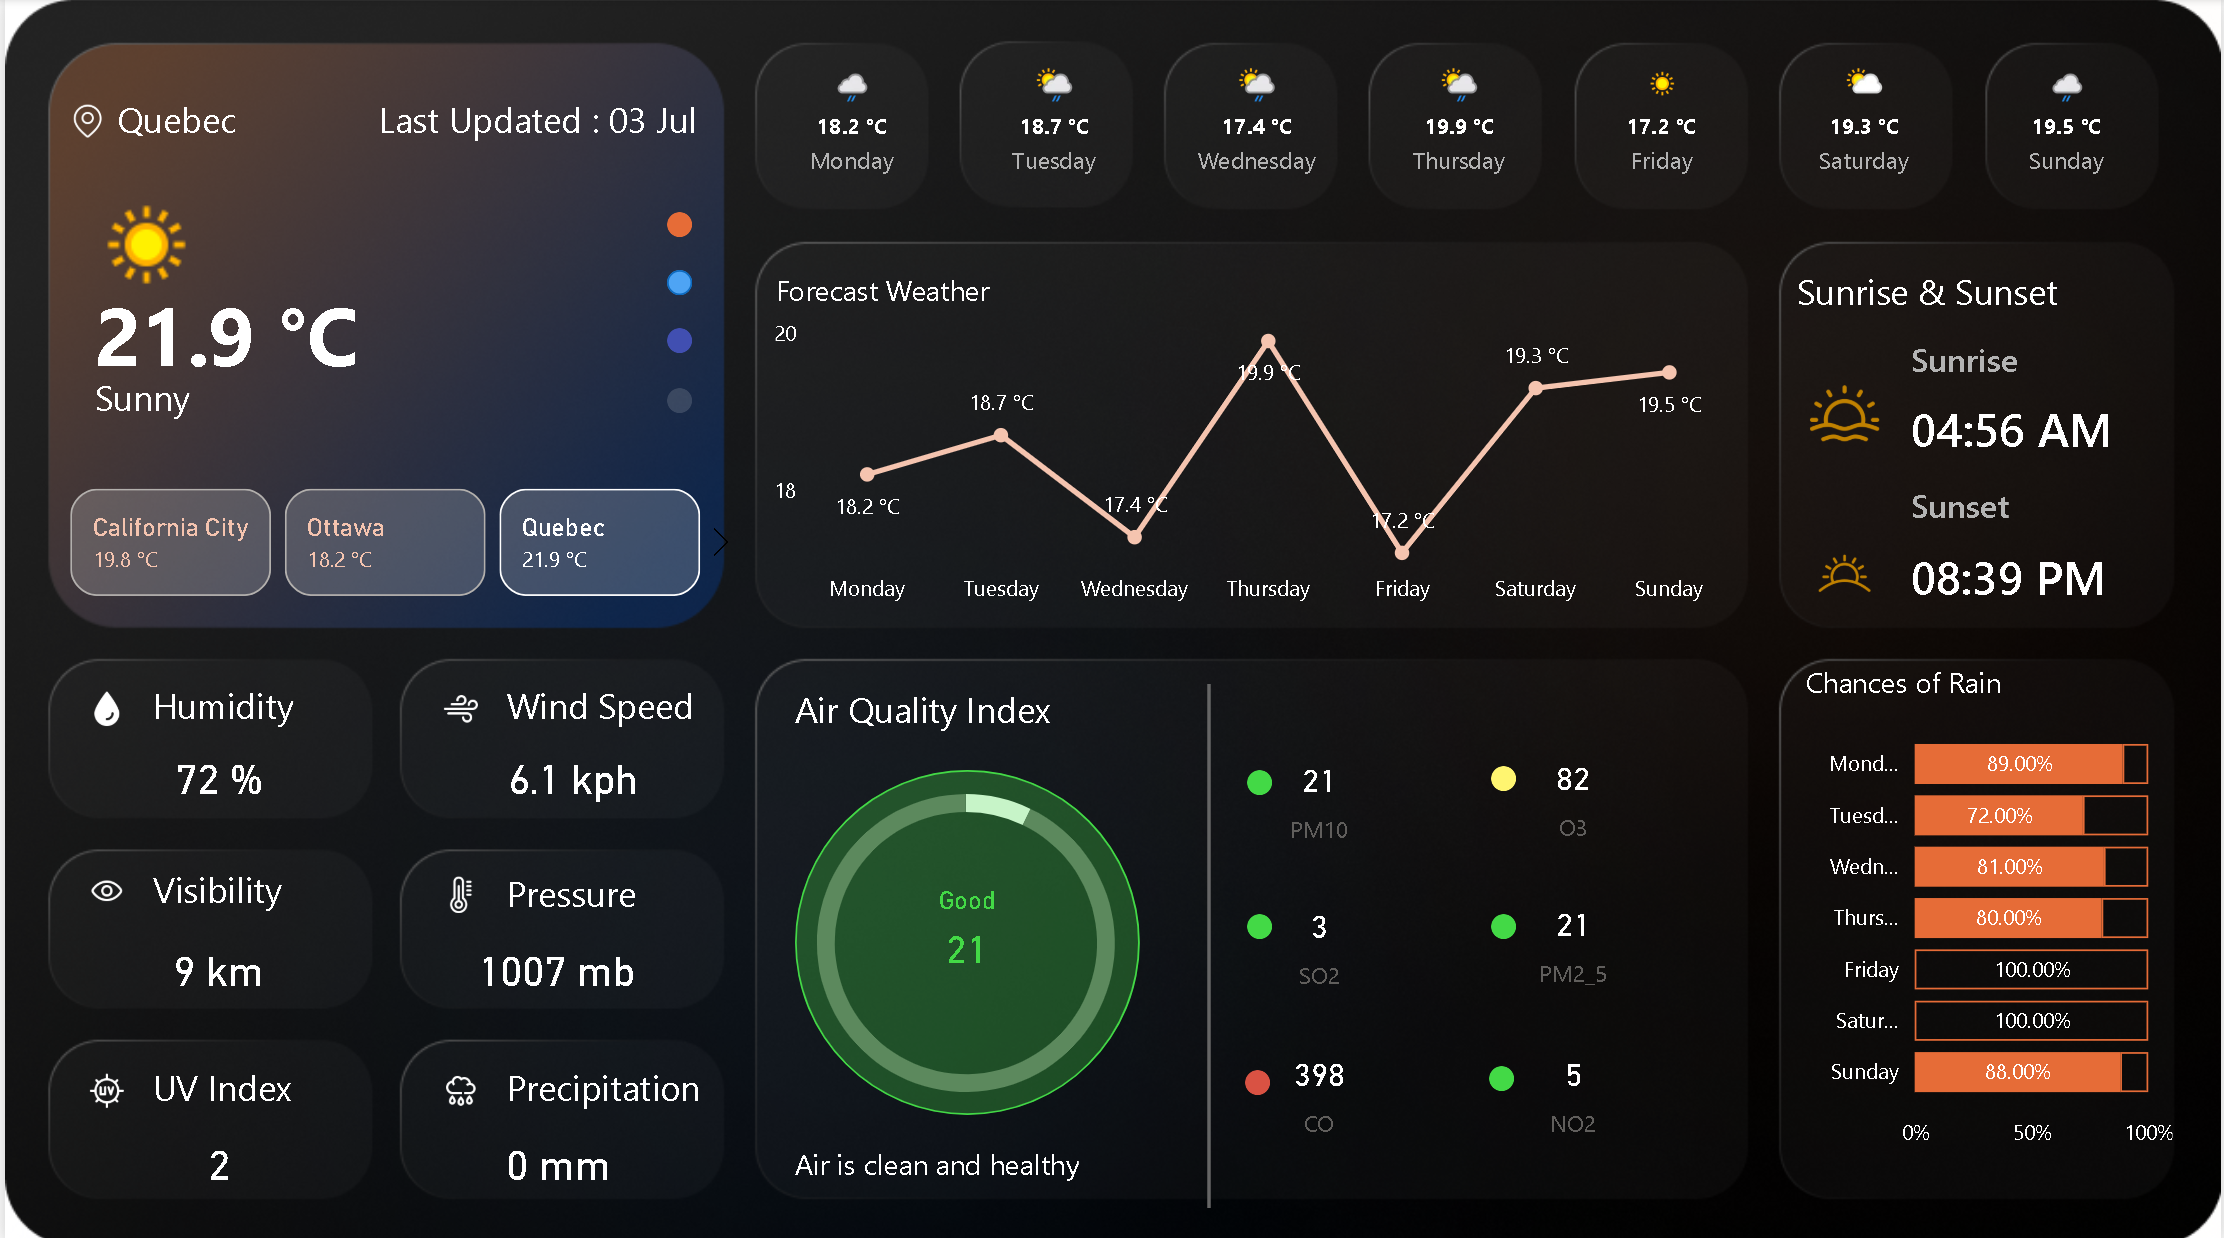

Layout of this report page (visuals, bound fields, positions):
{"tool":"powerbi","page":{"name":"Weather ","canvas":[1280,720],"ordinal":0},"visuals":[{"type":"donutChart","fields":{"Y":["Sum(Current.current.air_quality.pm10)","All_Measures.Left_value_PM10v"]},"box":[442.3,431,225.2,230.1],"z":0},{"type":"shape","box":[456.9,445.6,199.3,199.3],"z":1000},{"type":"advancedSlicerVisual","fields":{"Values":["Location.location.name"]},"box":[13,278.7,416.4,72.9],"z":2000},{"type":"shape","box":[51.8,157.2,178.2,72.9],"z":3000},{"type":"shape","box":[51.8,205.8,294.9,50.2],"z":4000},{"type":"shape","box":[64.8,45.4,147.4,50.2],"z":5000},{"type":"shape","box":[178.2,45.4,222,50.2],"z":6000},{"type":"image","box":[24.3,56.7,47,29.2],"z":7000},{"type":"cardVisual","fields":{"Data":["Min(Current.current.condition.icon)"]},"box":[21.1,85.9,102.1,85.9],"z":8000},{"type":"image","box":[32.4,500.7,53.5,30.8],"z":9000},{"type":"shape","box":[85.9,494.2,92.4,40.5],"z":10000},{"type":"shape","box":[85.9,388.9,92.4,40.5],"z":11000},{"type":"shape","box":[290,388.9,110.2,40.5],"z":12000},{"type":"shape","box":[290,497.4,92.4,40.5],"z":13000},{"type":"shape","box":[85.9,609.2,92.4,40.5],"z":14000},{"type":"shape","box":[290,609.2,123.1,40.5],"z":15000},{"type":"image","box":[32.4,395.3,53.5,30.8],"z":16000},{"type":"image","box":[236.6,395.3,53.5,30.8],"z":17000},{"type":"image","box":[236.6,502.3,53.5,30.8],"z":18000},{"type":"image","box":[32.4,615.7,53.5,30.8],"z":19000},{"type":"image","box":[236.6,615.7,53.5,30.8],"z":20000},{"type":"card","fields":{"Values":["All_Measures.Humidity_Curr"]},"box":[69.7,426.1,108.6,48.6],"z":21000},{"type":"card","fields":{"Values":["Current.Windspeed"]},"box":[273.8,426.1,108.6,48.6],"z":22000},{"type":"card","fields":{"Values":["All_Measures.Visibility"]},"box":[69.7,537.9,108.6,48.6],"z":23000},{"type":"card","fields":{"Values":["All_Measures.pressure_curr"]},"box":[264.1,537.9,108.6,48.6],"z":24000},{"type":"card","fields":{"Values":["All_Measures.UV_Index_curr"]},"box":[69.7,649.7,108.6,48.6],"z":25000},{"type":"card","fields":{"Values":["All_Measures.precitiption_curr"]},"box":[265.7,649.7,108.6,48.6],"z":26000},{"type":"advancedSlicerVisual","fields":{"Values":["Forecast_by_Day.Day_Name"]},"box":[429.4,30.8,827.9,89.1],"z":27000},{"type":"lineChart","title":"Forecast Weather","fields":{"Category":["Forecast_by_Day.Day_Name"],"Y":["Sum(Forecast_by_Day.forecast.forecastday.day.avgtemp_c)"]},"box":[440.7,157.2,557.4,202.5],"z":28000},{"type":"shape","box":[1035.3,149.1,162,40.5],"z":29000},{"type":"shape","box":[1101.8,225.2,178.2,47],"z":30000},{"type":"shape","box":[1101.8,315.9,178.2,37.3],"z":31000},{"type":"shape","box":[1101.8,184.7,178.2,47],"z":32000},{"type":"shape","box":[1101.8,269,178.2,47],"z":33000},{"type":"image","box":[1035.3,215.5,55.1,50.2],"z":34000},{"type":"image","box":[1035.3,307.8,55.1,50.2],"z":35000},{"type":"hundredPercentStackedBarChart","title":"Chances of Rain","fields":{"Category":["Forecast_by_Day.Day_Name"],"Y":["Sum(Forecast_by_Day.forecast.forecastday.day.daily_chance_of_rain)","All_Measures.Left_Val_rain"]},"box":[1035.3,384,222,290],"z":36000},{"type":"shape","box":[456.9,390.5,162,40.5],"z":37000},{"type":"card","fields":{"Values":["Sum(Current.current.air_quality.pm10)"]},"box":[719.4,430,81,64.5],"z":38000},{"type":"card","fields":{"Values":["Sum(Current.current.air_quality.so2)"]},"box":[719.4,514.3,81,64.5],"z":39000},{"type":"card","fields":{"Values":["Sum(Current.current.air_quality.co)"]},"box":[719.4,600.3,81,64.5],"z":40000},{"type":"card","fields":{"Values":["Sum(Current.current.air_quality.o3)"]},"box":[865.8,429.2,81,64.5],"z":41000},{"type":"card","fields":{"Values":["Sum(Current.current.air_quality.pm2_5)"]},"box":[865.8,513.6,81,64.5],"z":42000},{"type":"card","fields":{"Values":["Sum(Current.current.air_quality.no2)"]},"box":[865.8,599.6,81,64.5],"z":43000},{"type":"shape","box":[717.8,445.6,14.6,14.6],"z":44000},{"type":"shape","box":[716.2,618.9,14.6,14.6],"z":45000},{"type":"shape","box":[717.8,529.8,14.6,14.6],"z":46000},{"type":"shape","box":[858.7,443.9,14.6,14.6],"z":47000},{"type":"shape","box":[858.7,529.8,14.6,14.6],"z":48000},{"type":"shape","box":[857.1,617.3,14.6,14.6],"z":49000},{"type":"shape","box":[669.1,396.4,53.2,302.8],"z":50000},{"type":"card","fields":{"Values":["Sum(Current.current.air_quality.pm10)"]},"box":[515.2,513.6,81,61.6],"z":51000},{"type":"shape","box":[456.9,653,210.6,40.5],"z":52000},{"type":"shape","box":[382.4,123.1,14.6,14.6],"z":53000},{"type":"shape","box":[382.4,157.2,14.6,14.6],"z":54000},{"type":"shape","box":[382.4,191.2,14.6,14.6],"z":55000},{"type":"shape","box":[382.4,225.2,14.6,14.6],"z":56000}]}

Visuals, with their boxes in screenshot pixels (x1, y1, x2, y2), scaled from the page's 1280x720 canvas onto the 2224x1238 screenshot:
donutChart - Sum(Current.current.air_quality.pm10) x All_Measures.Left_value_PM10v: detection(768, 741, 1160, 1137)
shape: detection(794, 766, 1140, 1109)
advancedSlicerVisual - Location.location.name: detection(23, 479, 746, 605)
shape: detection(90, 270, 400, 396)
shape: detection(90, 354, 602, 440)
shape: detection(113, 78, 369, 164)
shape: detection(310, 78, 695, 164)
image: detection(42, 97, 124, 148)
cardVisual - Min(Current.current.condition.icon): detection(37, 148, 214, 295)
image: detection(56, 861, 149, 914)
shape: detection(149, 850, 310, 919)
shape: detection(149, 669, 310, 738)
shape: detection(504, 669, 695, 738)
shape: detection(504, 855, 664, 925)
shape: detection(149, 1047, 310, 1117)
shape: detection(504, 1047, 718, 1117)
image: detection(56, 680, 149, 733)
image: detection(411, 680, 504, 733)
image: detection(411, 864, 504, 917)
image: detection(56, 1059, 149, 1112)
image: detection(411, 1059, 504, 1112)
card - All_Measures.Humidity_Curr: detection(121, 733, 310, 816)
card - Current.Windspeed: detection(476, 733, 664, 816)
card - All_Measures.Visibility: detection(121, 925, 310, 1008)
card - All_Measures.pressure_curr: detection(459, 925, 648, 1008)
card - All_Measures.UV_Index_curr: detection(121, 1117, 310, 1201)
card - All_Measures.precitiption_curr: detection(462, 1117, 650, 1201)
advancedSlicerVisual - Forecast_by_Day.Day_Name: detection(746, 53, 2185, 206)
"Forecast Weather" lineChart: detection(766, 270, 1734, 618)
shape: detection(1799, 256, 2080, 326)
shape: detection(1914, 387, 2223, 468)
shape: detection(1914, 543, 2223, 607)
shape: detection(1914, 318, 2223, 398)
shape: detection(1914, 463, 2223, 543)
image: detection(1799, 371, 1895, 457)
image: detection(1799, 529, 1895, 616)
"Chances of Rain" hundredPercentStackedBarChart: detection(1799, 660, 2185, 1159)
shape: detection(794, 671, 1075, 741)
card - Sum(Current.current.air_quality.pm10): detection(1250, 739, 1391, 850)
card - Sum(Current.current.air_quality.so2): detection(1250, 884, 1391, 995)
card - Sum(Current.current.air_quality.co): detection(1250, 1032, 1391, 1143)
card - Sum(Current.current.air_quality.o3): detection(1504, 738, 1645, 849)
card - Sum(Current.current.air_quality.pm2_5): detection(1504, 883, 1645, 994)
card - Sum(Current.current.air_quality.no2): detection(1504, 1031, 1645, 1142)
shape: detection(1247, 766, 1273, 791)
shape: detection(1244, 1064, 1270, 1089)
shape: detection(1247, 911, 1273, 936)
shape: detection(1492, 763, 1517, 788)
shape: detection(1492, 911, 1517, 936)
shape: detection(1489, 1061, 1515, 1087)
shape: detection(1163, 682, 1255, 1202)
card - Sum(Current.current.air_quality.pm10): detection(895, 883, 1036, 989)
shape: detection(794, 1123, 1160, 1192)
shape: detection(664, 212, 690, 237)
shape: detection(664, 270, 690, 295)
shape: detection(664, 329, 690, 354)
shape: detection(664, 387, 690, 412)
